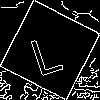L: (25, 25, 66, 77)
